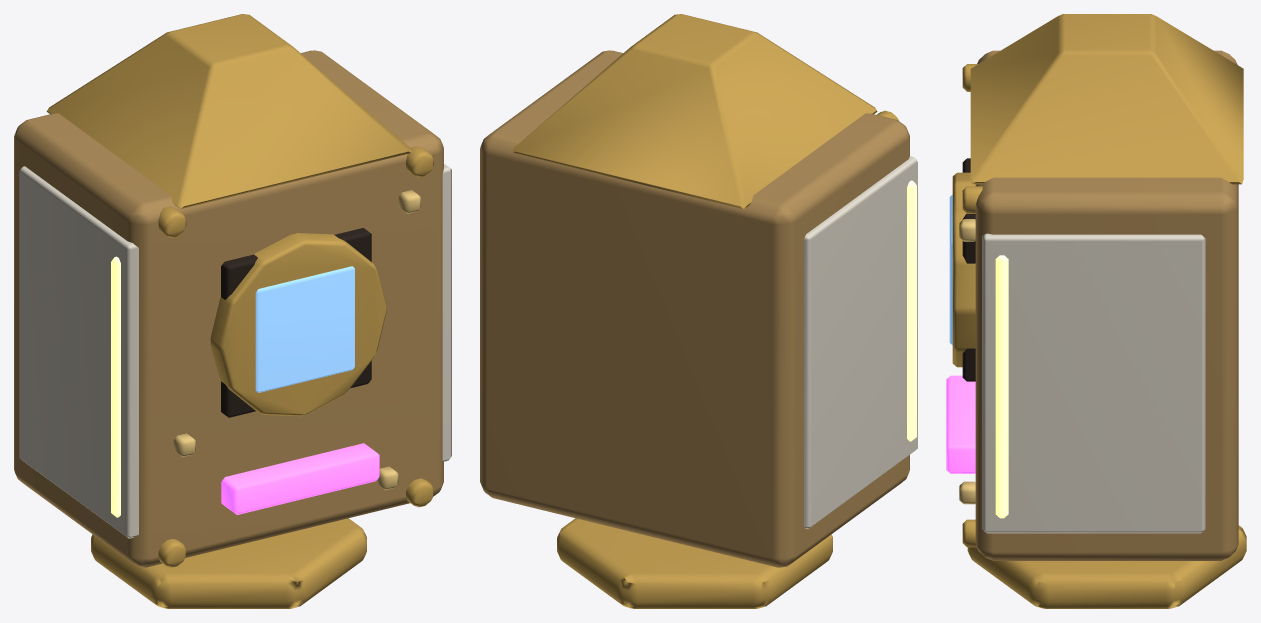
Rendered from sovereign_brass_core_regalia.glb.
3 views of the same model, side by side, from view 1: azimuth 30°, elevation 25°; view 2: azimuth 150°, elevation 25°; view 3: azimuth 270°, elevation 25° (orthographic).
Visible parts, largest first — view 1: sovereign_brass_core_regalia; view 2: sovereign_brass_core_regalia; view 3: sovereign_brass_core_regalia.
Boxes of the visible parts, left/top/right/bottom form: sovereign_brass_core_regalia: left=14, top=14, right=451, bottom=608; sovereign_brass_core_regalia: left=480, top=14, right=917, bottom=608; sovereign_brass_core_regalia: left=946, top=14, right=1246, bottom=608.
Size of the model in its own units: 0.6 by 0.89 by 0.4575.
Materials: 1 (1 with a texture image).
